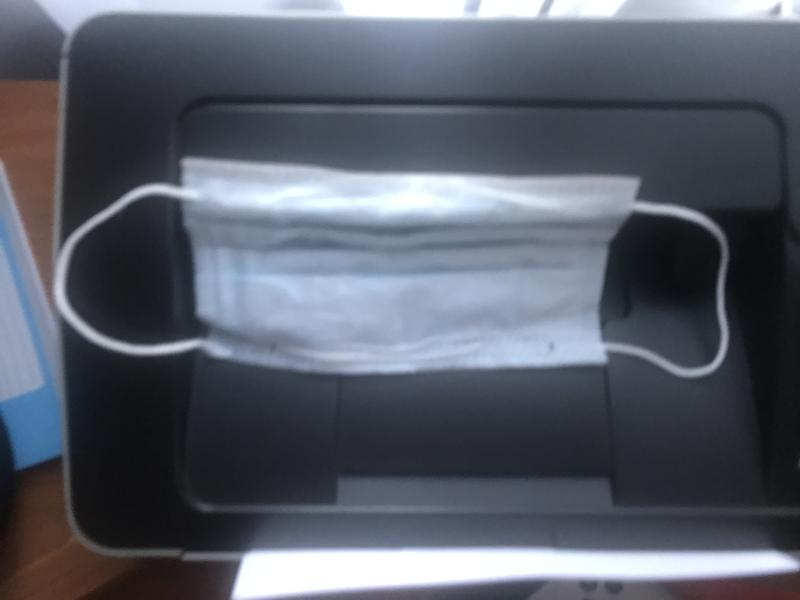medical_mask: (50, 157, 732, 380)
